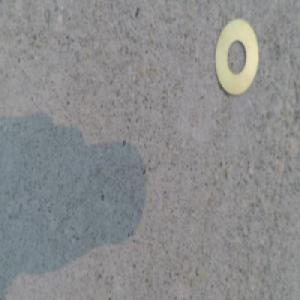Washer: (209, 30, 256, 100)
